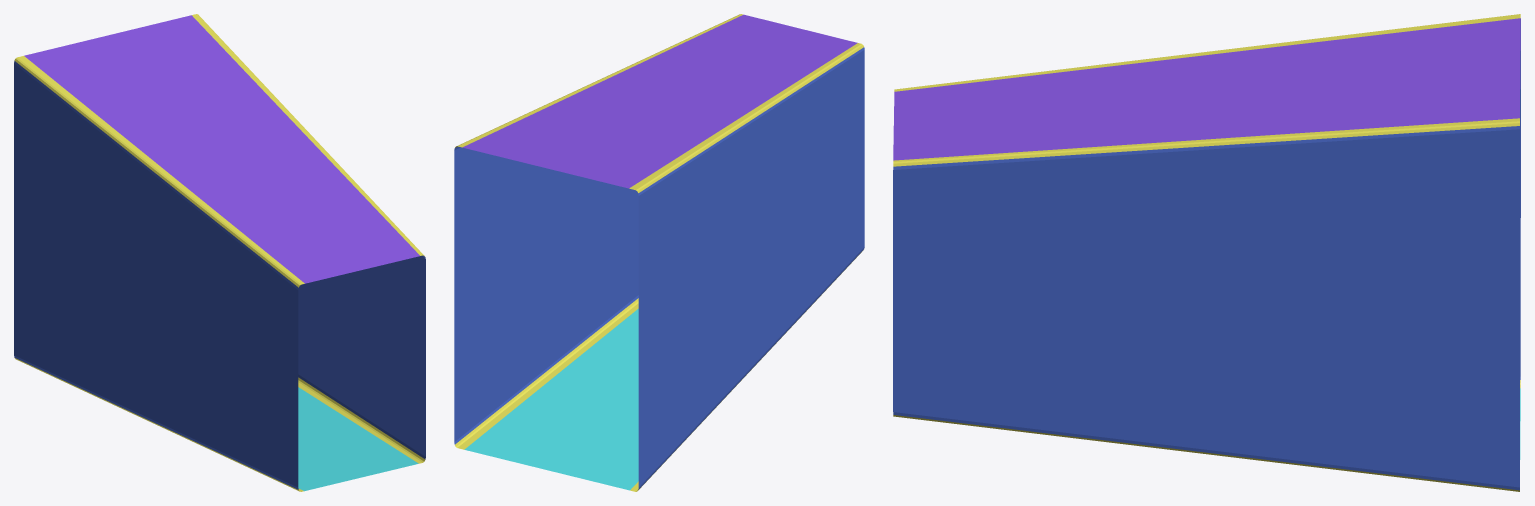
Rendered from Hallway.fbx.
3 views of the same model, side by side, from view 1: azimuth 30°, elevation 25°; view 2: azimuth 150°, elevation 25°; view 3: azimuth 270°, elevation 25° (orthographic). The views are drawn at different scales.
Visible parts, largest first — view 1: Cube; view 2: Cube; view 3: Cube.
Part boxes in pixels (box(x1,y1,x2,y2)): Cube: box(14, 14, 425, 491); Cube: box(454, 14, 864, 491); Cube: box(893, 14, 1520, 491).
Size of the model in its own units: 603 by 941 by 1444.
